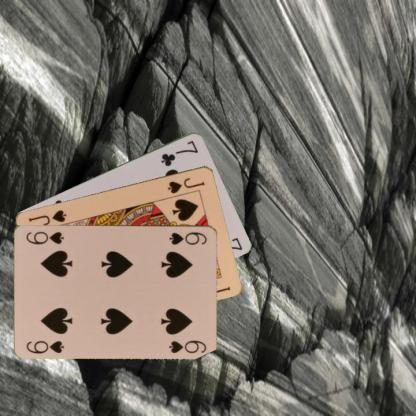6s: (24, 337, 65, 355), (167, 230, 209, 246)
7c: (158, 137, 200, 167)
Js: (165, 175, 206, 195)
